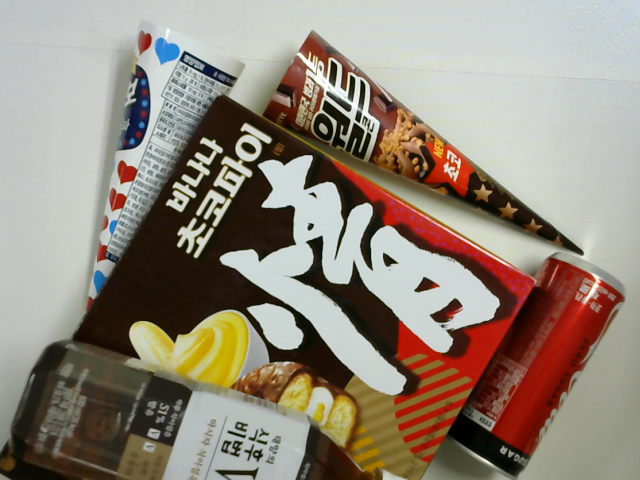Bravo_Cone_(Banila)_CVS: (70, 22, 245, 327)
Choco_Pie_Banana: (23, 107, 532, 480)
Coca_Cola_Zero_Can_250ml: (444, 251, 625, 480)
Post-meal_recipe_W_tea_500ml: (11, 340, 408, 480)
World_Cone_Choco: (264, 27, 585, 254)
